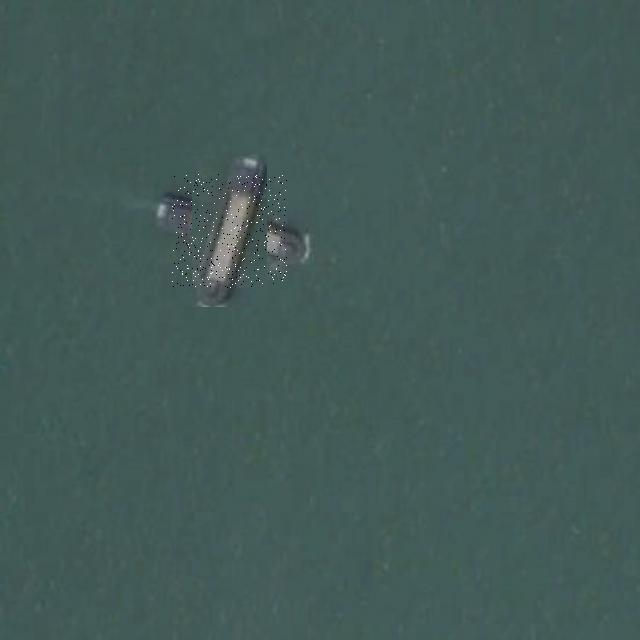boat: (172, 174, 287, 288)
